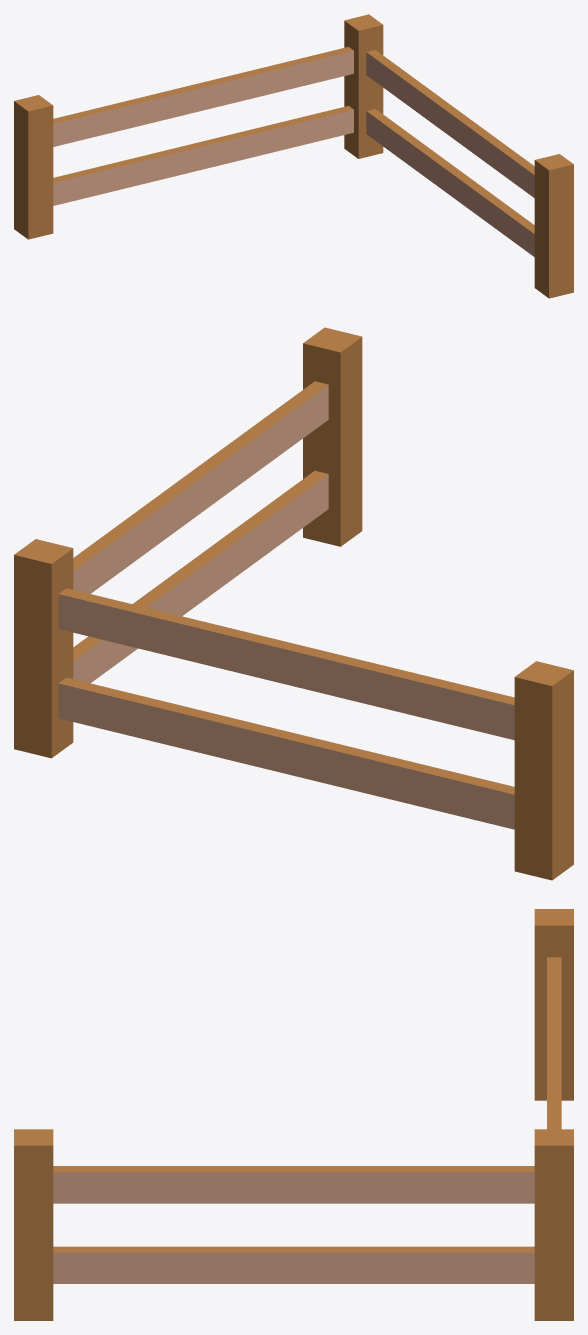
Rendered from fence_corner.glb.
3 views of the same model, one above another, from view 1: azimuth 30°, elevation 25°; view 2: azimuth 150°, elevation 25°; view 3: azimuth 270°, elevation 25° (orthographic). The views are drawn at different scales.
Visible parts, largest first — view 1: fence_corner; view 2: fence_corner; view 3: fence_corner.
Part boxes in pixels (left/top/right/bottom): fence_corner: left=14, top=14, right=573, bottom=298; fence_corner: left=14, top=327, right=573, bottom=880; fence_corner: left=14, top=909, right=573, bottom=1320.
Bounding box in the file's own units: 1 × 0.345 × 1.
